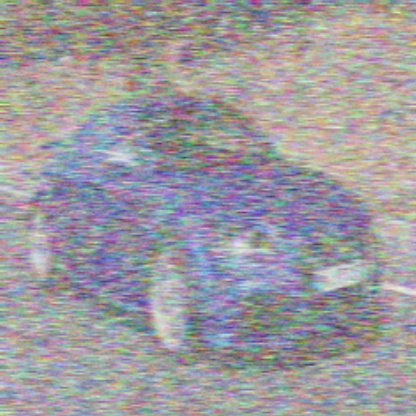Vehicle: (30, 90, 383, 367)
